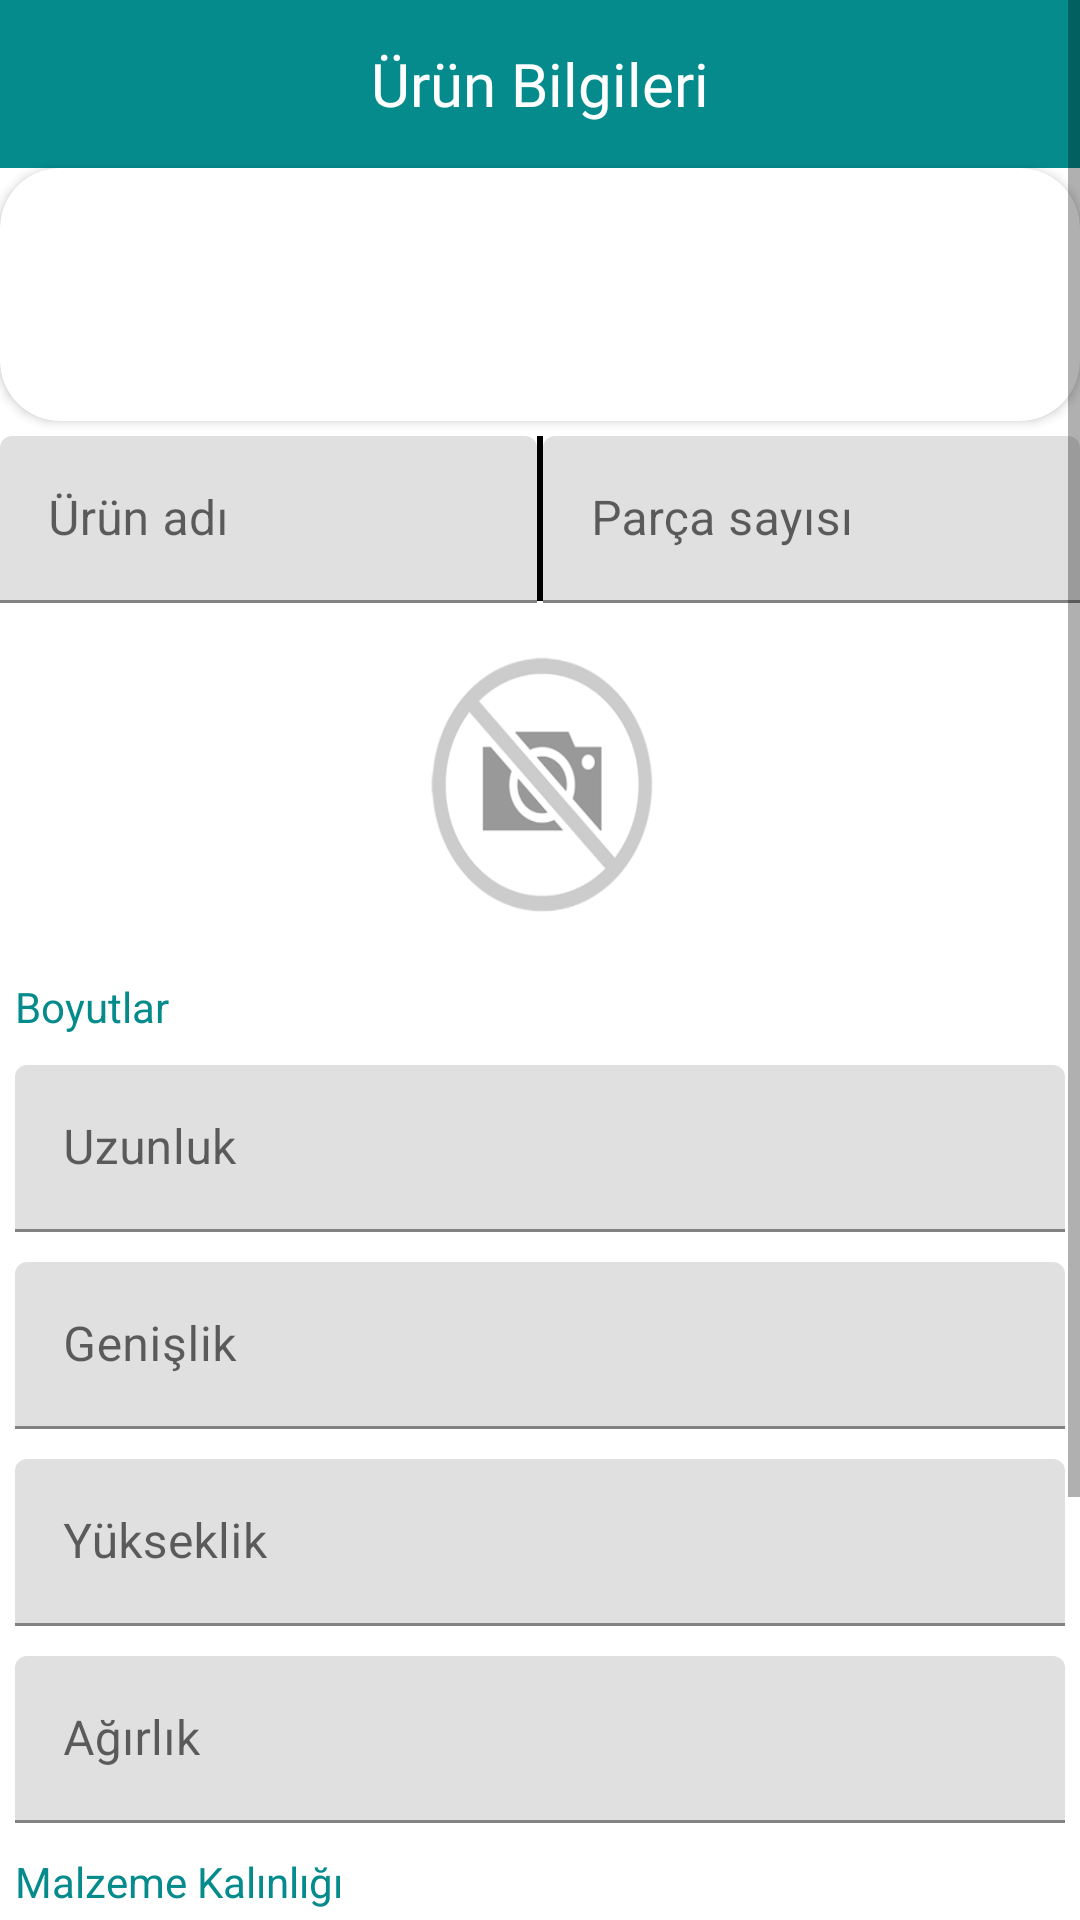

Where icons sit on this 1080*1920 app screen, as (x1, y1, x2, y2):
resimyukle: (432, 658, 652, 911)
